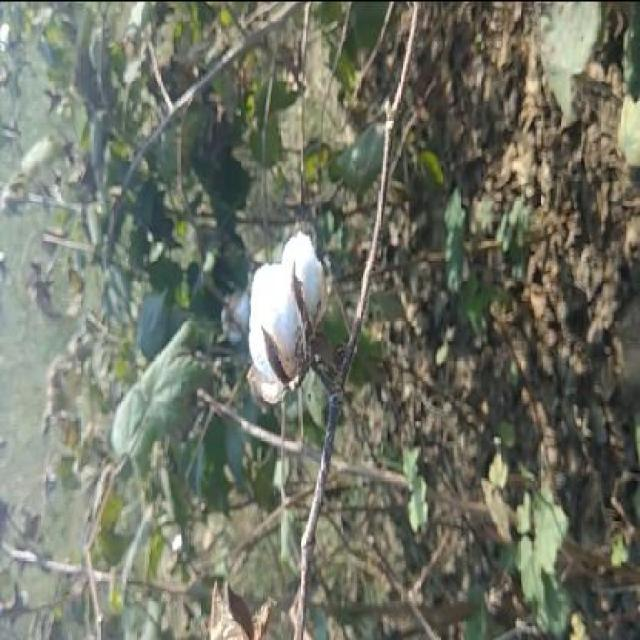cotton_ready: (238, 209, 358, 434)
